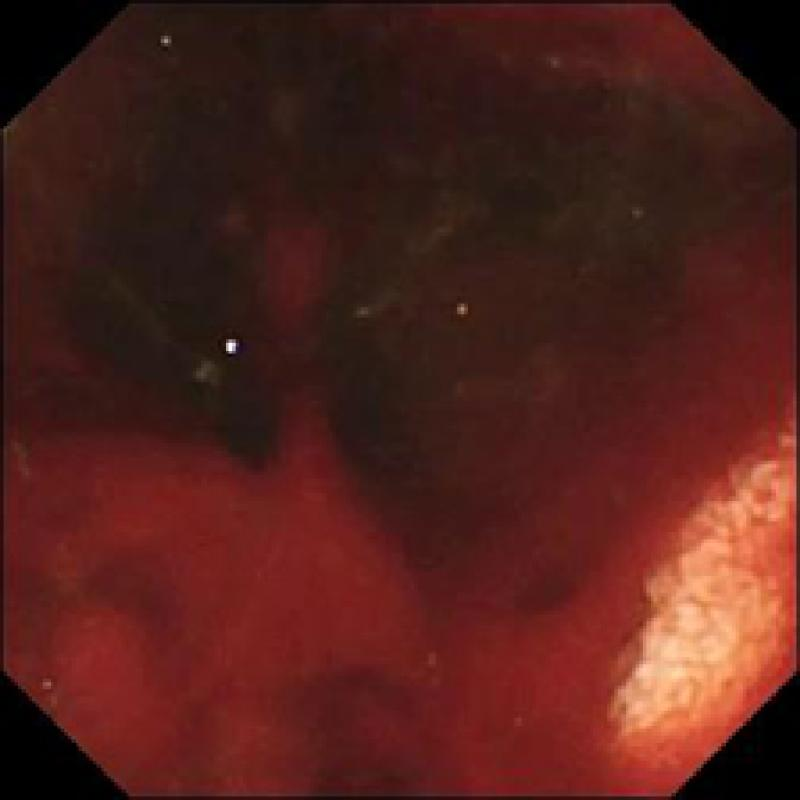bleeding: (0, 206, 800, 800), (400, 0, 800, 150)
